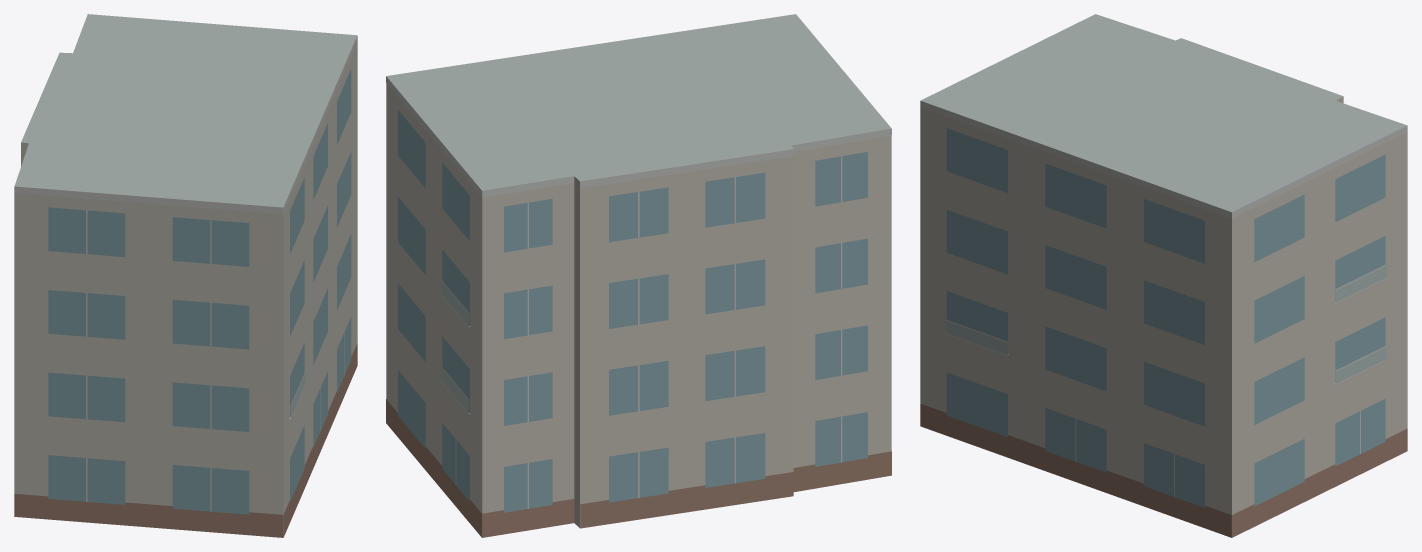
The model's file is survey-upis-32608202.glb.
The picture shows the model from 3 angles, left to right: view 1: azimuth 30°, elevation 25°; view 2: azimuth 150°, elevation 25°; view 3: azimuth 270°, elevation 25°; orthographic projection. The views are drawn at different scales.
Visible parts, largest first — view 1: survey-upis-32608202.tmp; view 2: survey-upis-32608202.tmp; view 3: survey-upis-32608202.tmp.
Boxes of the visible parts, box(x1,y1,x2,y2) form: survey-upis-32608202.tmp: box(14, 14, 357, 537); survey-upis-32608202.tmp: box(386, 14, 891, 537); survey-upis-32608202.tmp: box(920, 14, 1407, 537).
Size of the model in its own units: 15.94 by 12.2 by 16.56.
